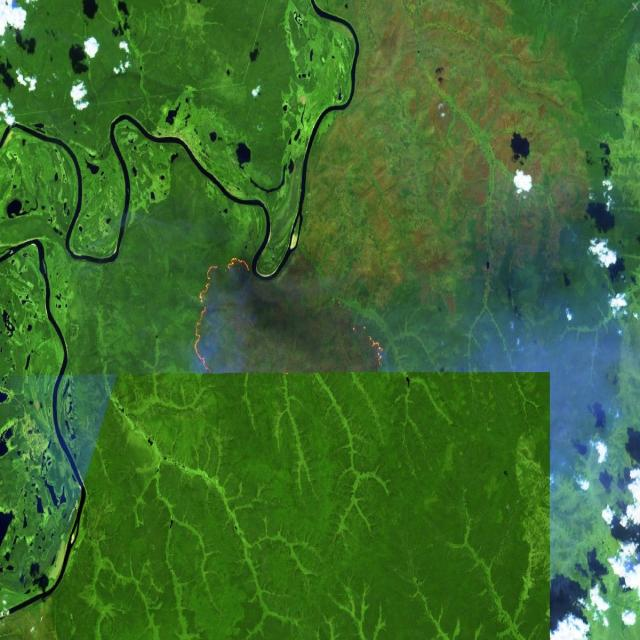fire: (184, 246, 259, 376), (329, 292, 389, 370)
